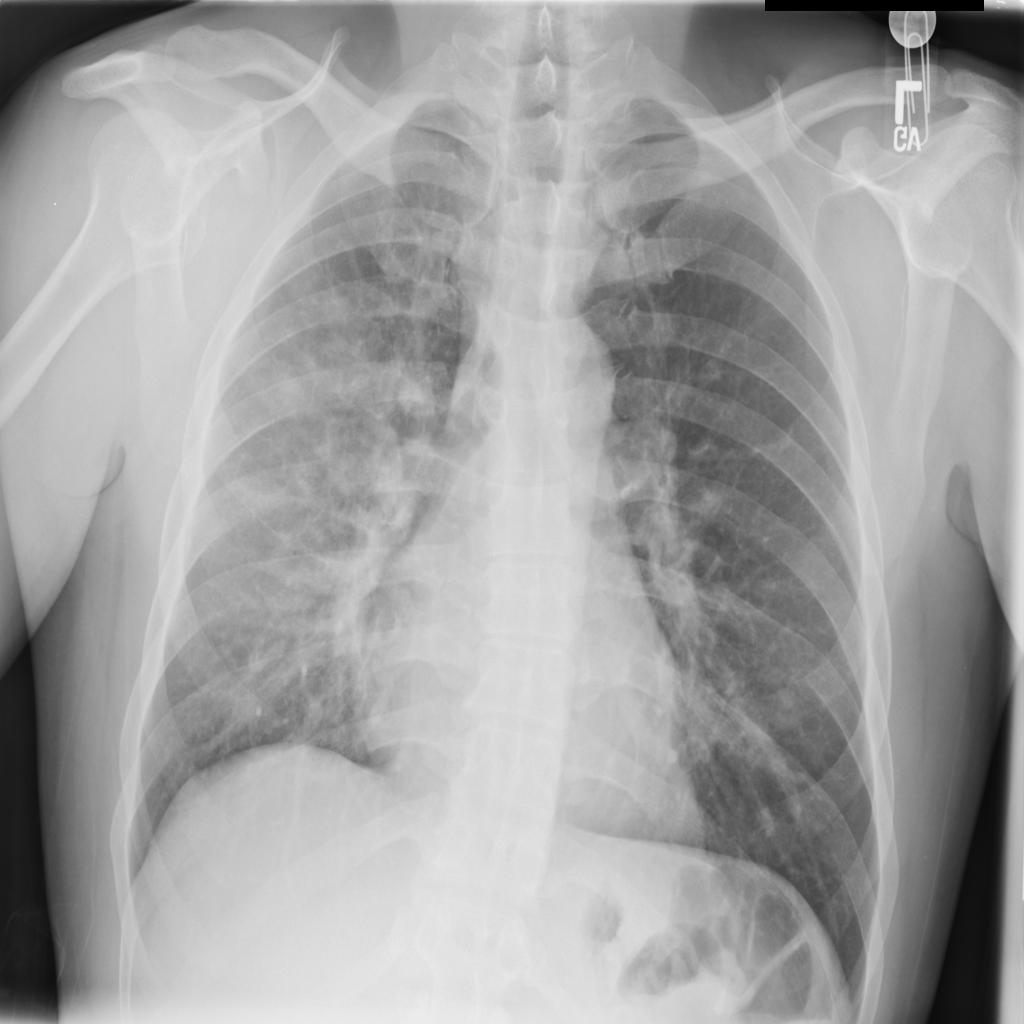nodule: (754, 664, 818, 740)
